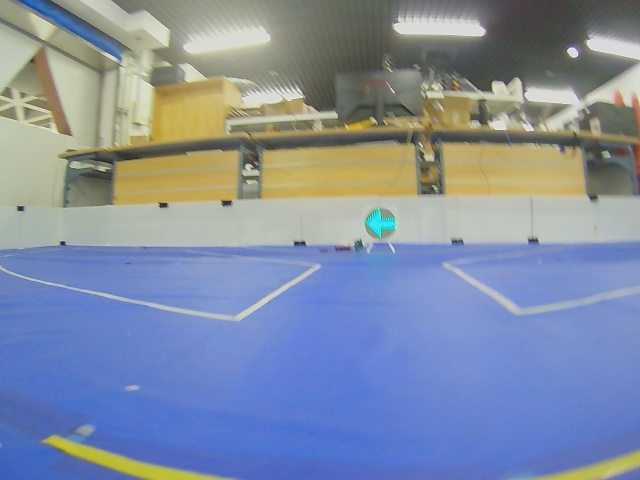left_green: (365, 208, 397, 239)
